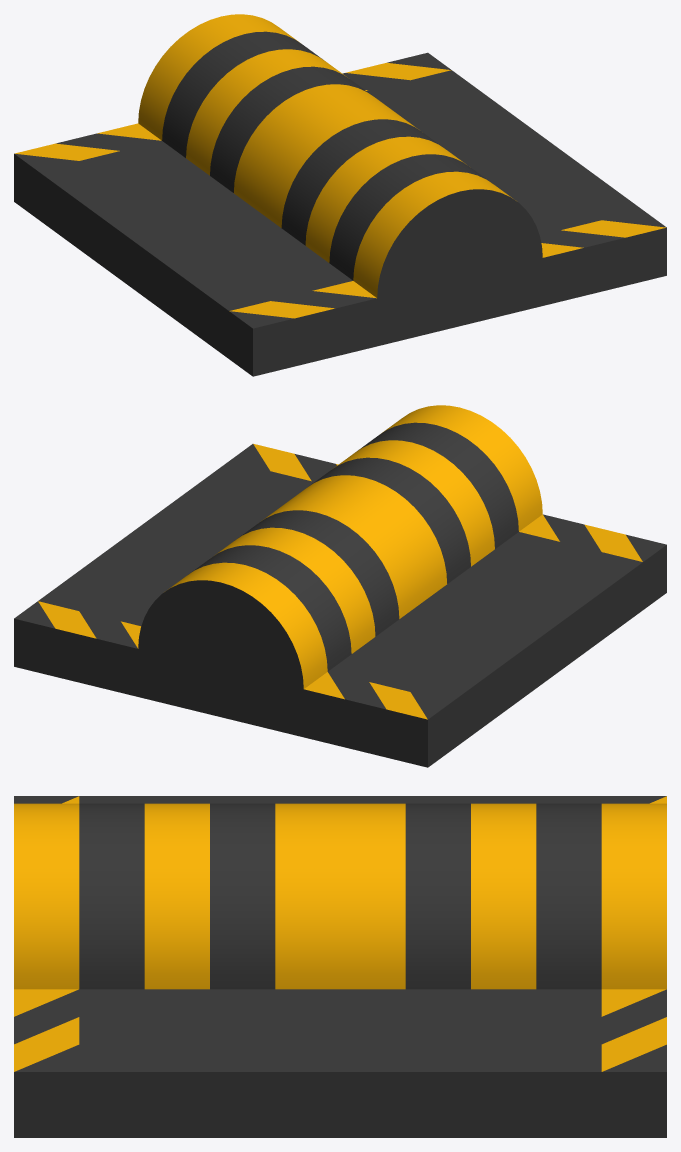
3 renders of one model, top to bottom at view 1: azimuth 30°, elevation 25°; view 2: azimuth 150°, elevation 25°; view 3: azimuth 270°, elevation 25°, orthographic. The views are drawn at different scales.
Visible parts, largest first — view 1: l2; view 2: l2; view 3: l2.
Boxes of the visible parts, box(x1,y1,x2,y2) form: l2: box(14, 14, 666, 376); l2: box(14, 405, 666, 767); l2: box(14, 796, 666, 1137).
Bounding box in the file's own units: 9 × 2.8 × 9.
